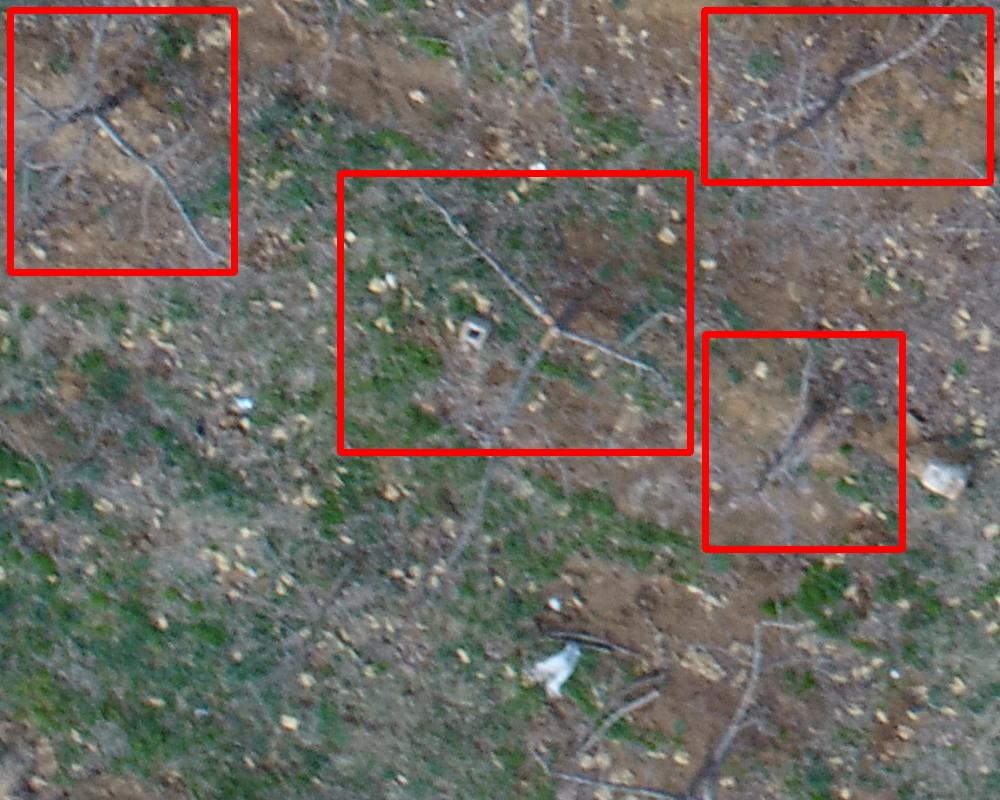apple: (340, 173, 690, 452), (10, 10, 234, 272), (704, 10, 990, 182), (705, 334, 902, 549)
